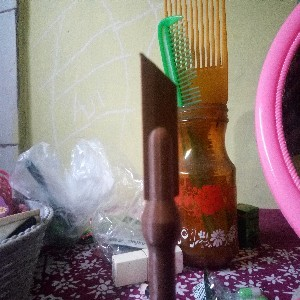cutter: (139, 50, 180, 300)
